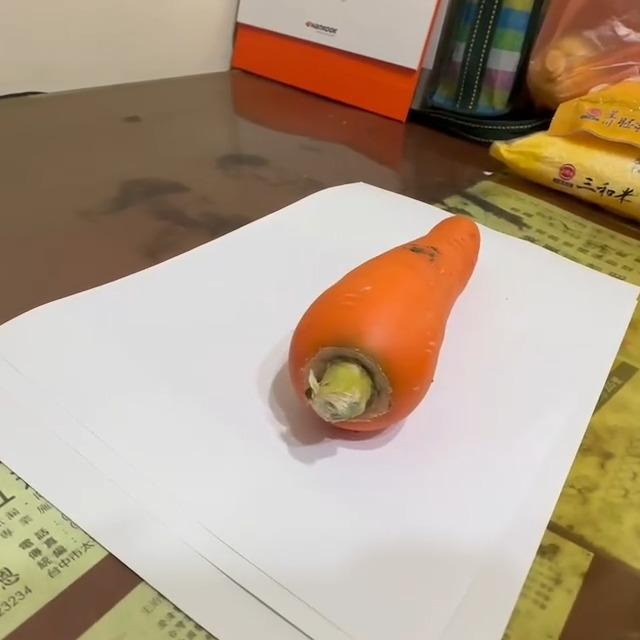carrot: (287, 214, 483, 438)
